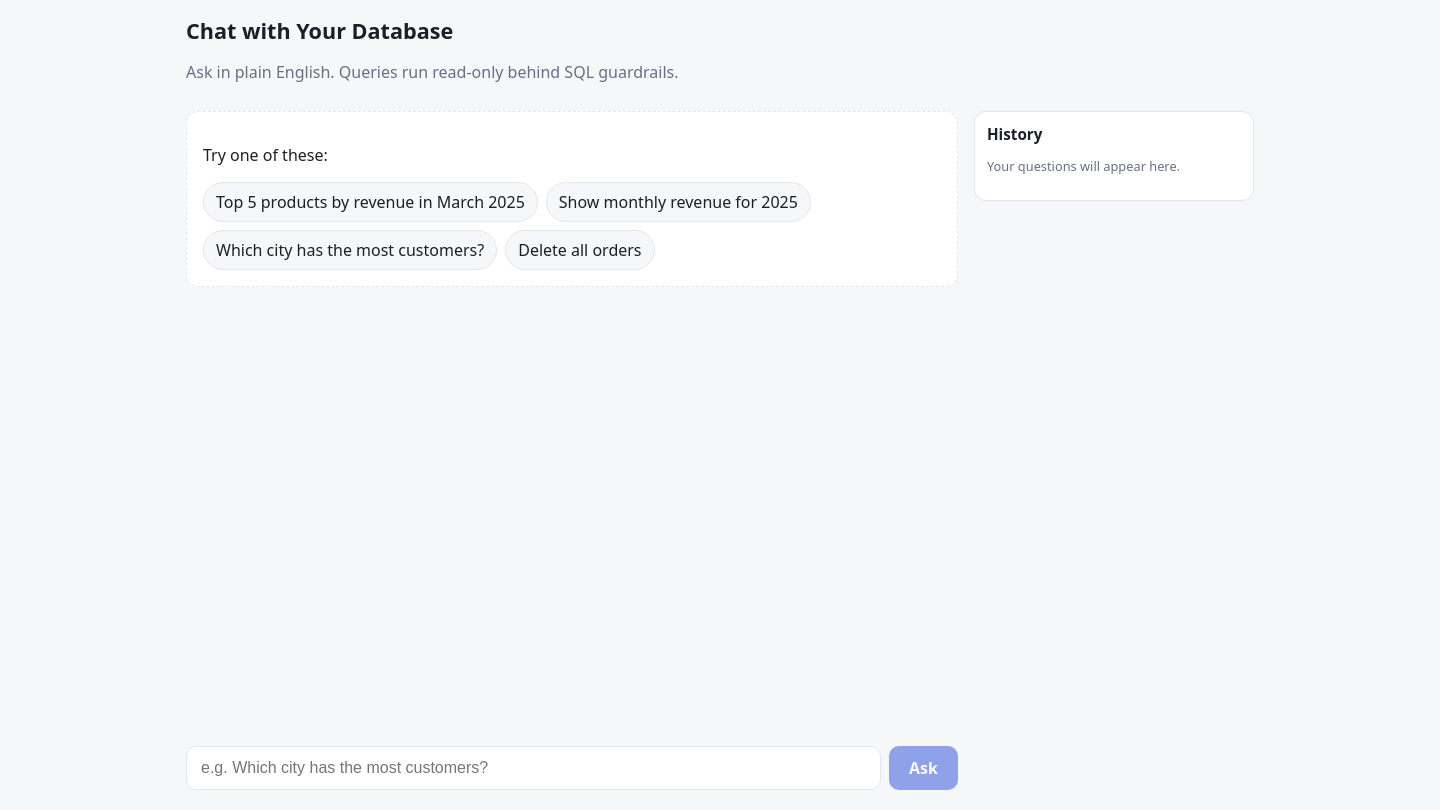
Test case: App › asks a question and shows the answer, table and SQL
Type "Which city has the most customers?" into the field named "Your question" at (534, 768), box [186,746,881,790]
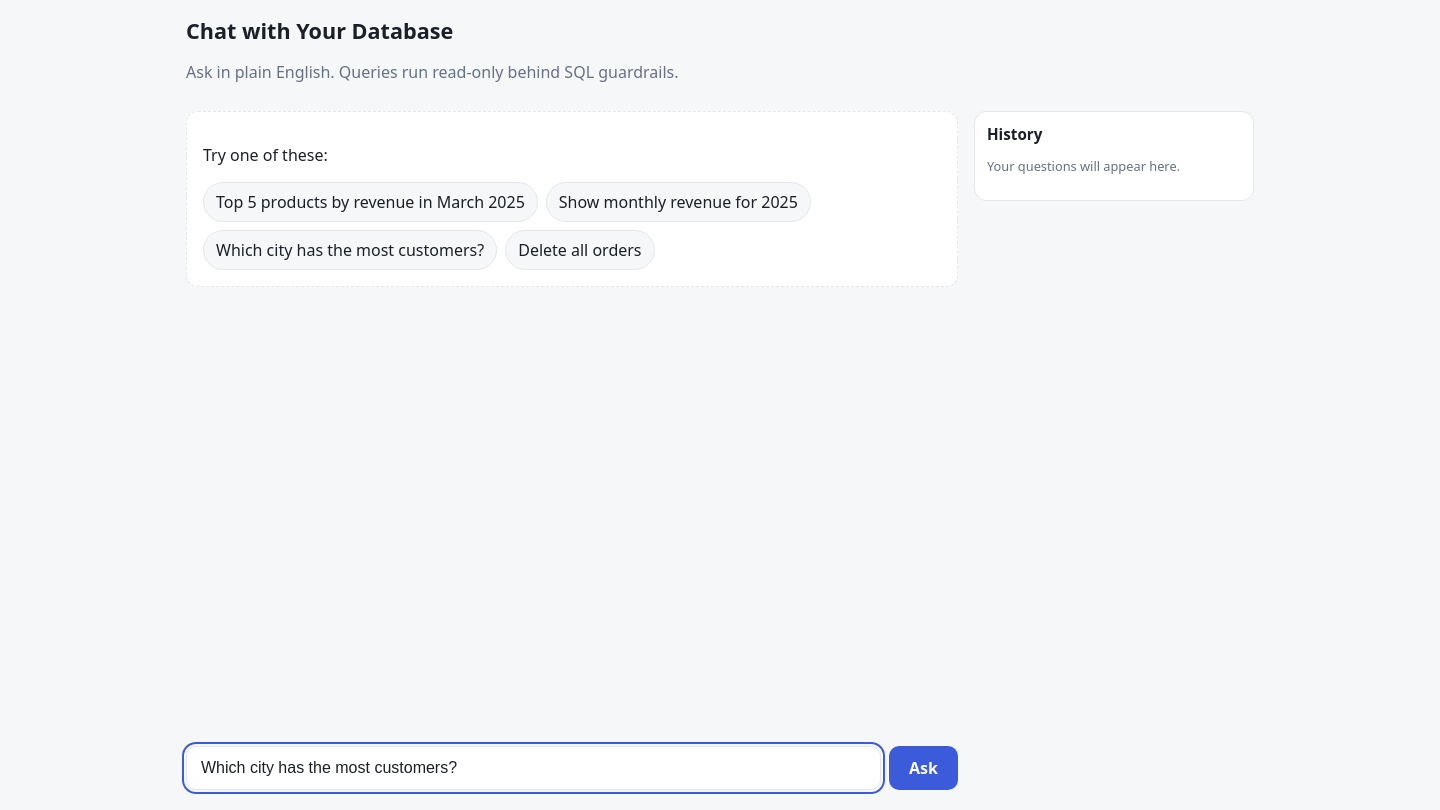
Click the button "Ask" at (924, 768), box [889,746,958,790]
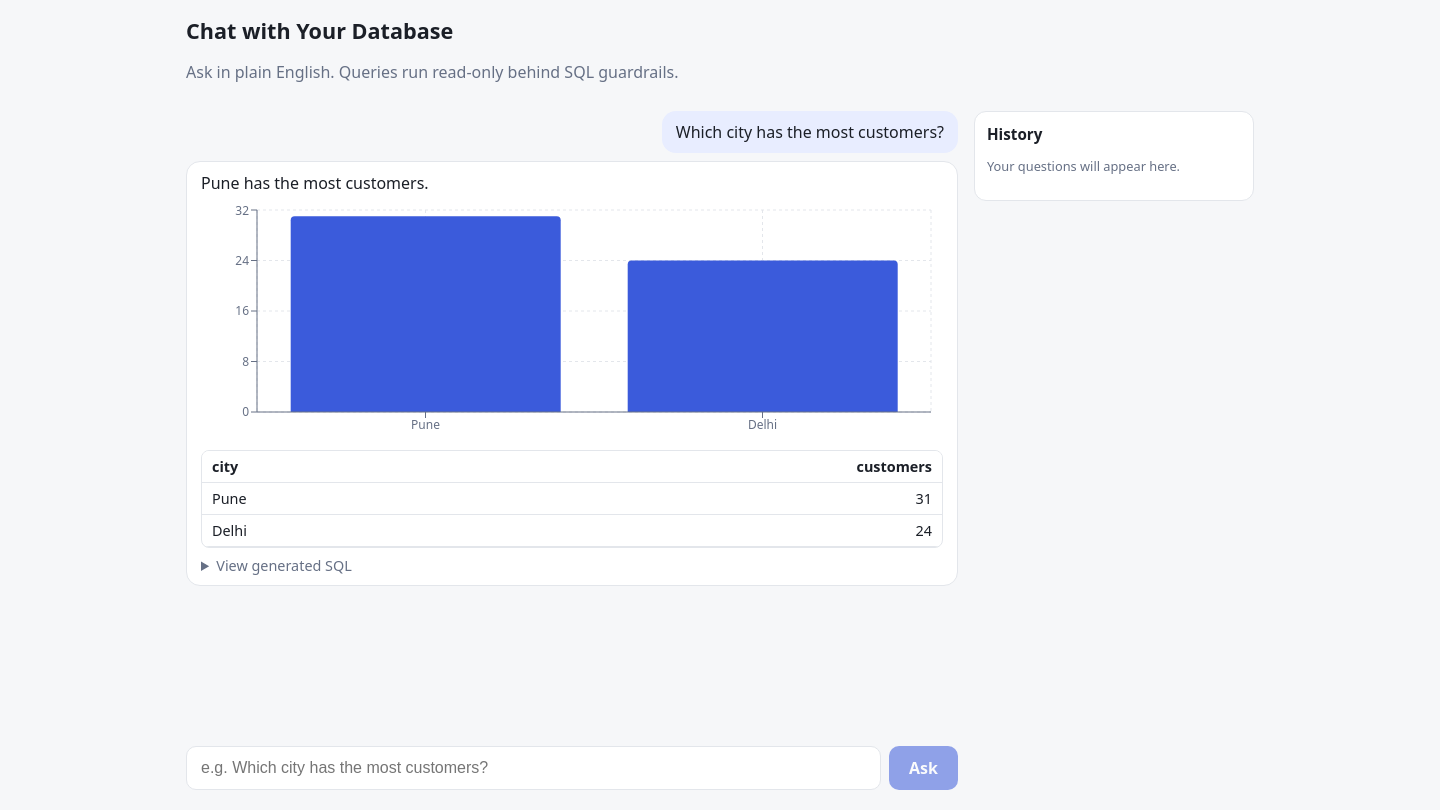
Expected: the text "Pune has the most customers." is shown, [201,172,429,194]
Expected: the column heading "city" is shown, [202,451,472,482]
